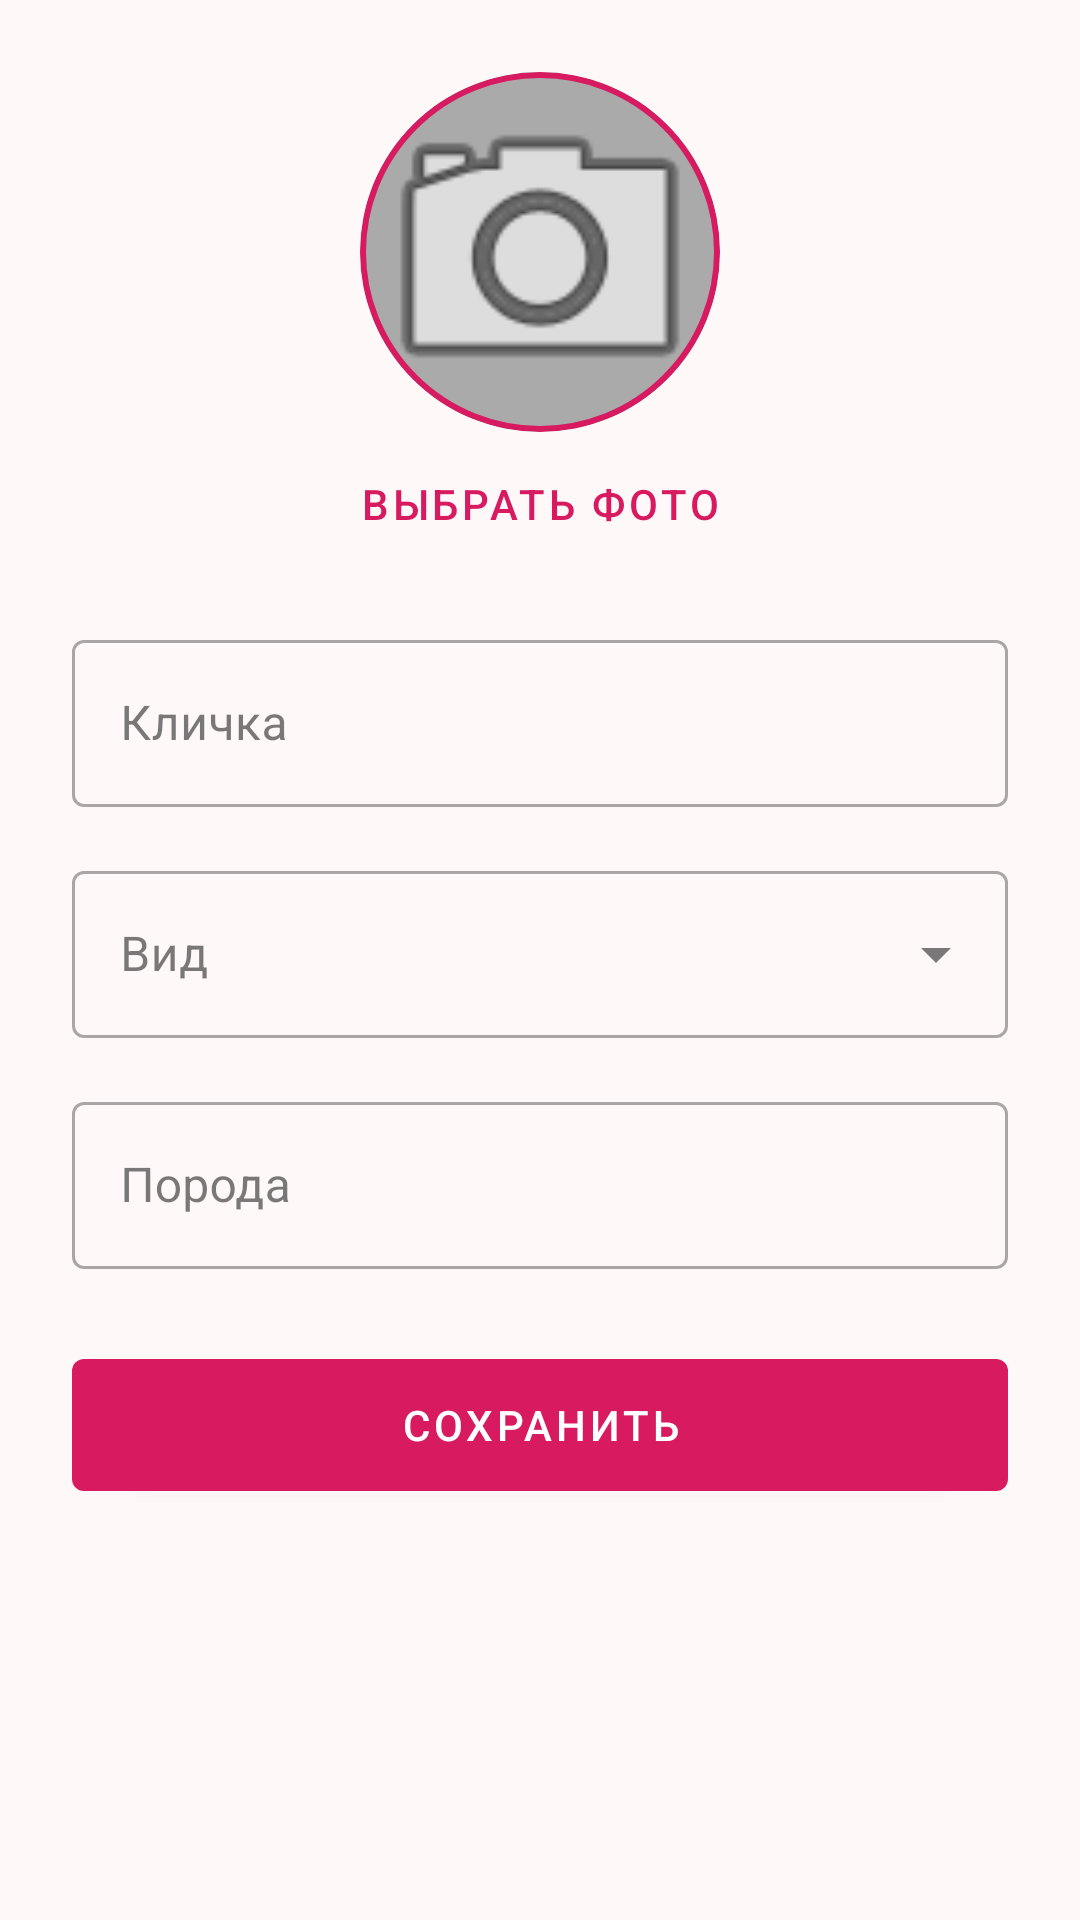

Where icons sit on this 1080px×1920px app screen, as box=[x1, y1, x2, y2]:
camera: box=[360, 72, 720, 432]
